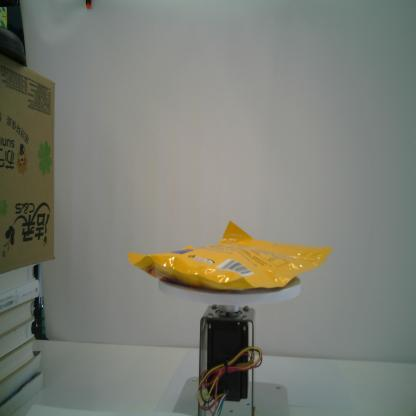Dried Fruit: (126, 219, 332, 292)
